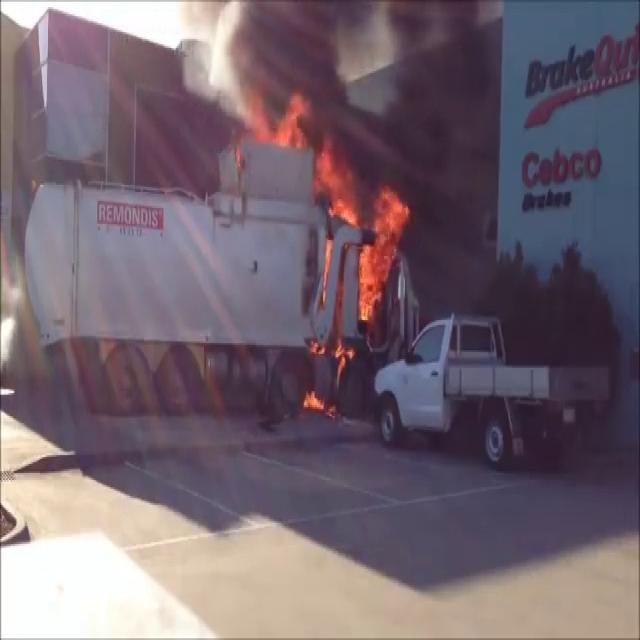Fire: (310, 150, 413, 326)
Smoke: (226, 1, 500, 202)
